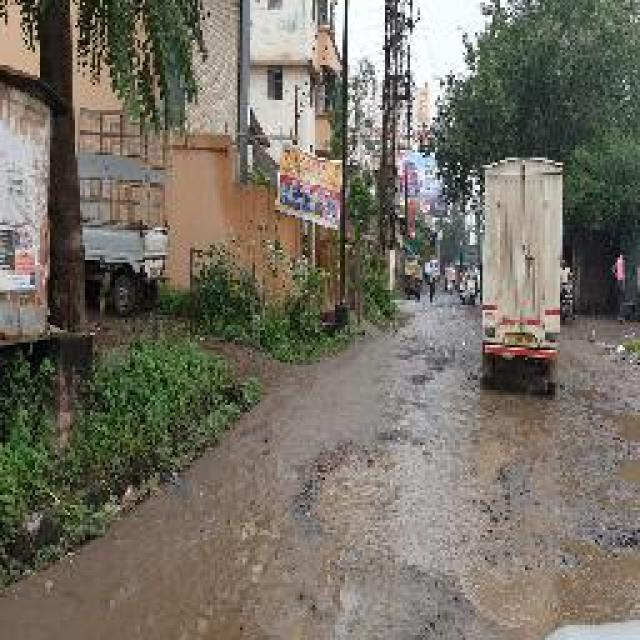stagnation: (300, 425, 640, 599)
